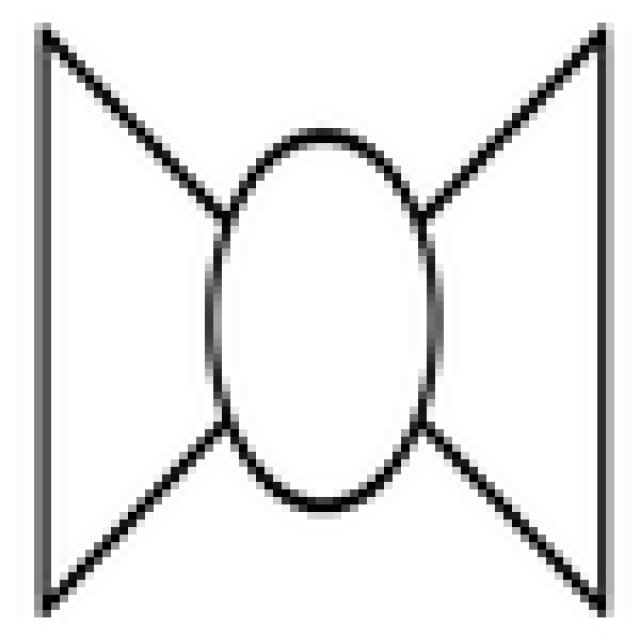ball valve: (47, 24, 618, 616)
